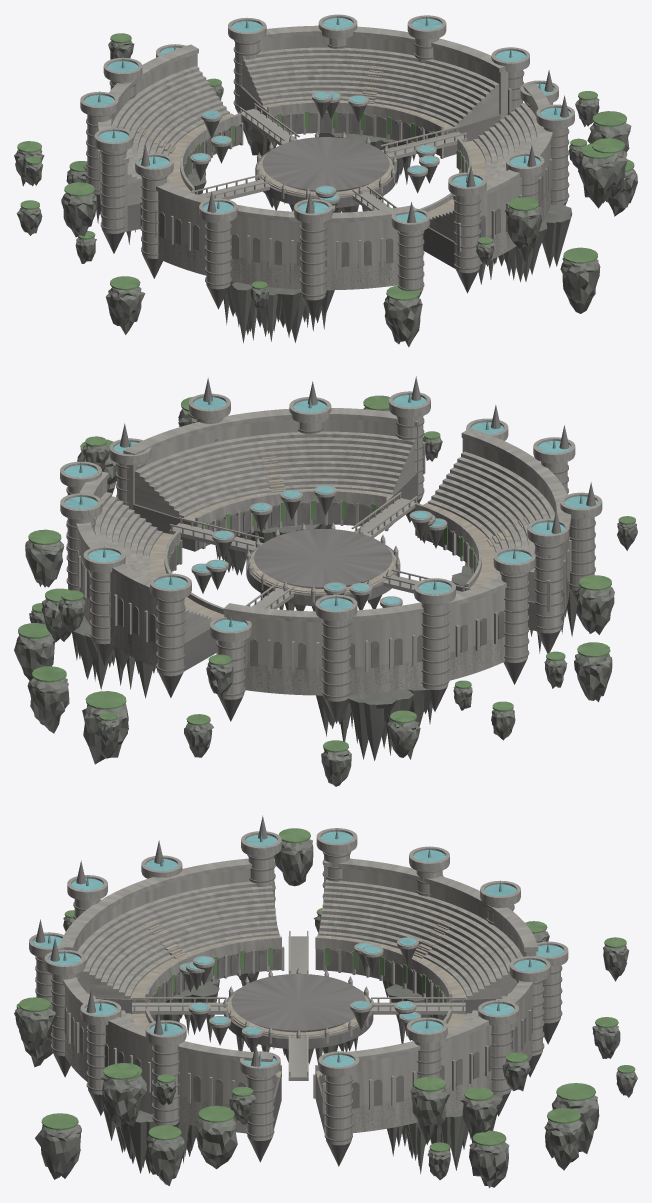
File: arena_v2.glb
3 views of the same model, one above another, from view 1: azimuth 30°, elevation 25°; view 2: azimuth 150°, elevation 25°; view 3: azimuth 270°, elevation 25° (orthographic). The views are drawn at different scales.
Parts seen in each view (by area): view 1: stone, dark, rock, moss, water, floor; view 2: stone, dark, rock, moss, water, floor; view 3: stone, rock, dark, moss, water, floor.
Boxes of the visible parts, x1=… form: stone: x1=80, y1=14, x2=574, y2=300; dark: x1=86, y1=40, x2=569, y2=320; rock: x1=14, y1=40, x2=637, y2=347; moss: x1=17, y1=33, x2=634, y2=300; water: x1=84, y1=18, x2=570, y2=222; floor: x1=131, y1=65, x2=496, y2=217; stone: x1=60, y1=391, x2=602, y2=701; dark: x1=66, y1=376, x2=595, y2=723; rock: x1=14, y1=407, x2=637, y2=786; moss: x1=18, y1=395, x2=635, y2=752; water: x1=64, y1=395, x2=597, y2=631; floor: x1=137, y1=451, x2=534, y2=618; stone: x1=29, y1=828, x2=568, y2=1145; rock: x1=14, y1=839, x2=637, y2=1188; dark: x1=35, y1=815, x2=562, y2=1166; moss: x1=16, y1=828, x2=635, y2=1152; water: x1=33, y1=831, x2=564, y2=1066; floor: x1=130, y1=920, x2=466, y2=1078.
Size of the model in its own units: 129 by 44.16 by 125.
